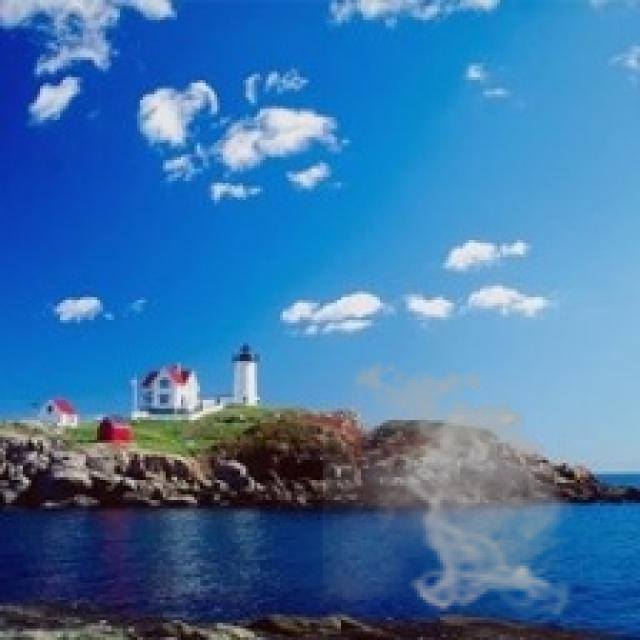Smoke: (323, 354, 583, 614)
